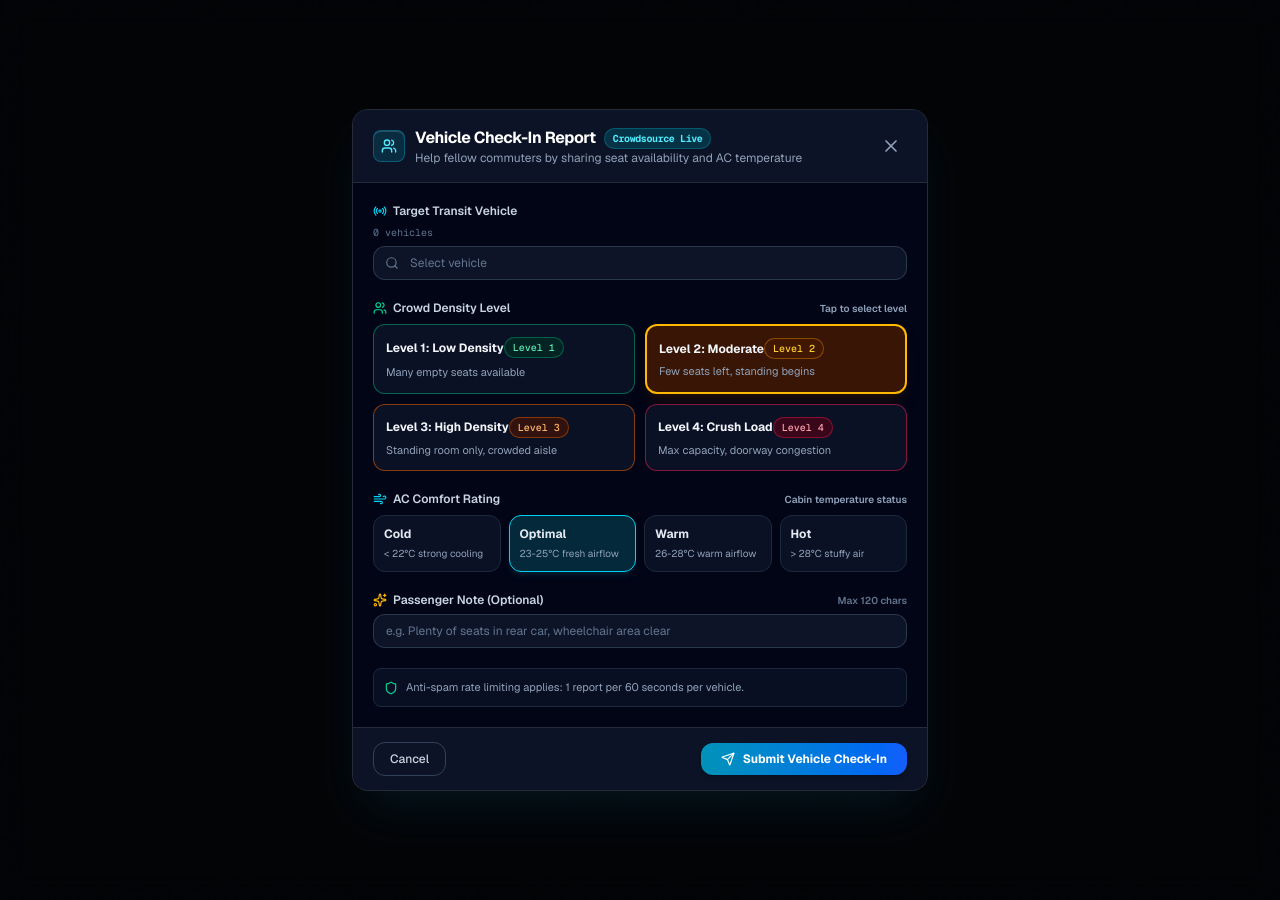
Test: crowd submit validation › valid submit POSTs the check-in and shows success
Expected: the dialog is shown, [352,109,928,791]
Click the button "Submit Vehicle Check-In".
click(804, 759)  # box [701,743,907,775]
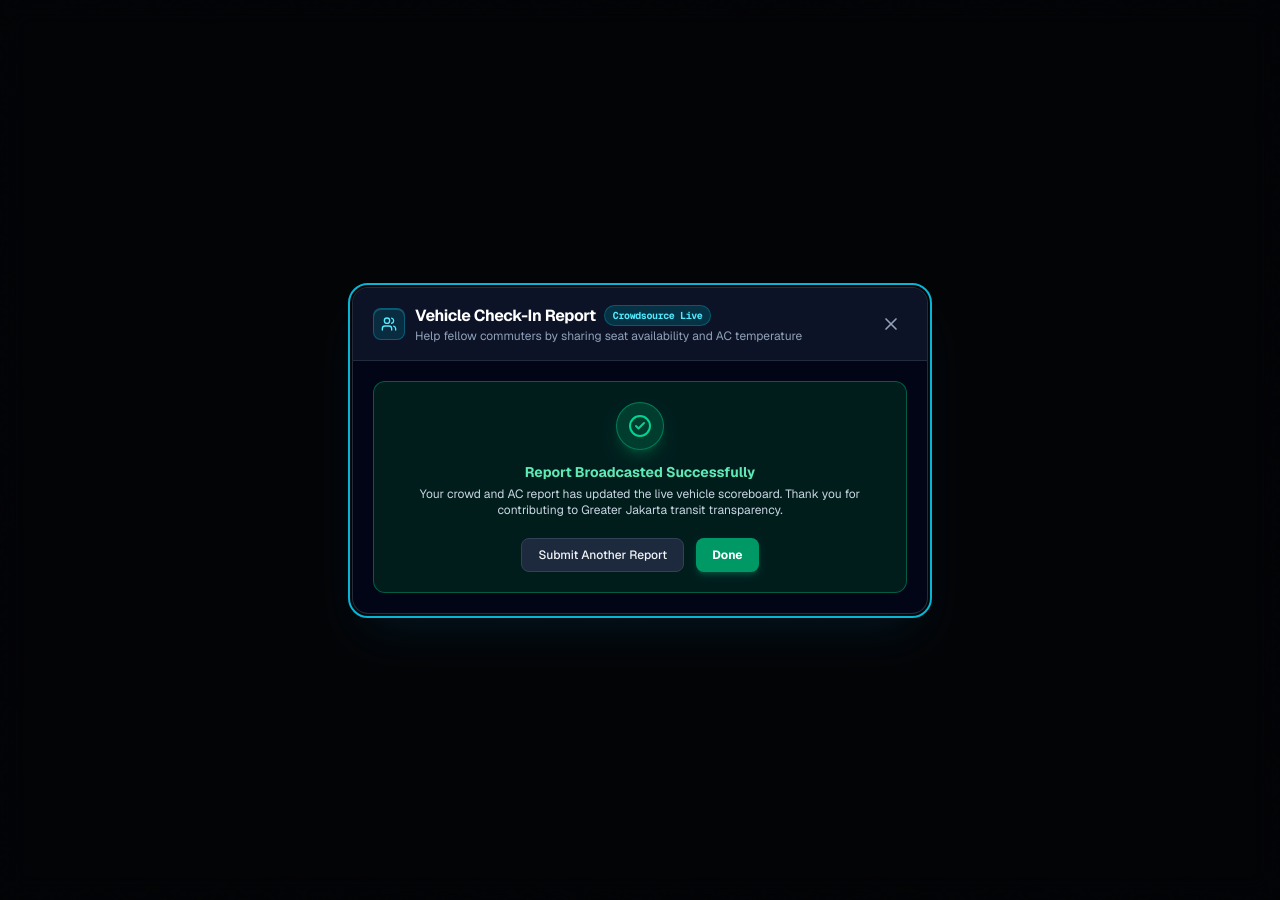
Now the heading "Report Broadcasted Successfully" is shown, box [525,462,755,480]
